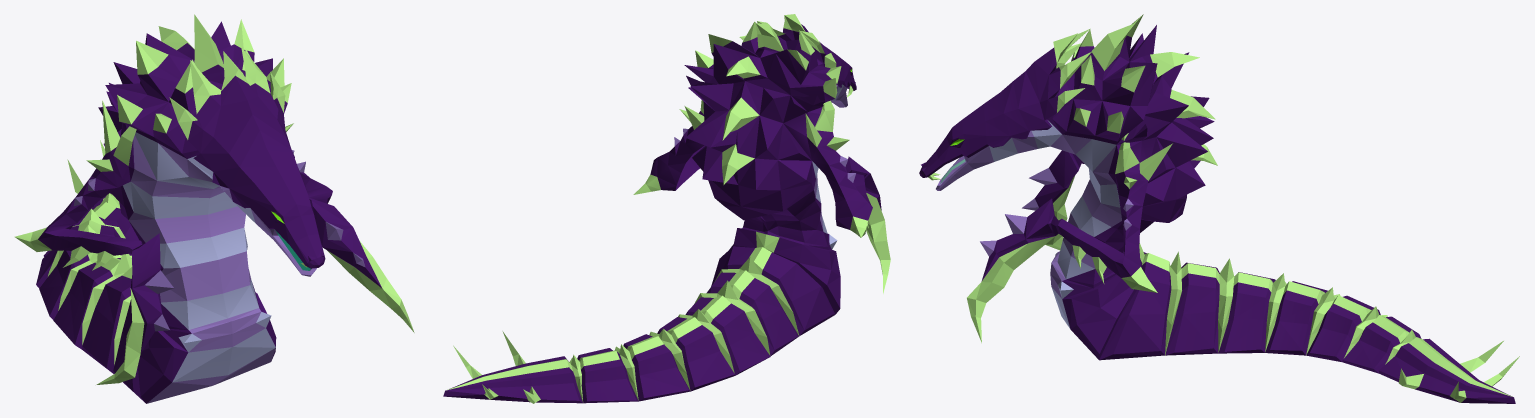
3 renders of one model, left to right at view 1: azimuth 30°, elevation 25°; view 2: azimuth 150°, elevation 25°; view 3: azimuth 270°, elevation 25°, orthographic. The views are drawn at different scales.
Visible parts, largest first — view 1: Alien_Serpent; view 2: Alien_Serpent; view 3: Alien_Serpent.
Boxes of the visible parts, x1=… form: Alien_Serpent: x1=14, y1=14, x2=414, y2=403; Alien_Serpent: x1=443, y1=14, x2=890, y2=403; Alien_Serpent: x1=919, y1=14, x2=1519, y2=403.
Bounding box in the file's own units: 220 × 217 × 371.
1 material, 1 textured.
